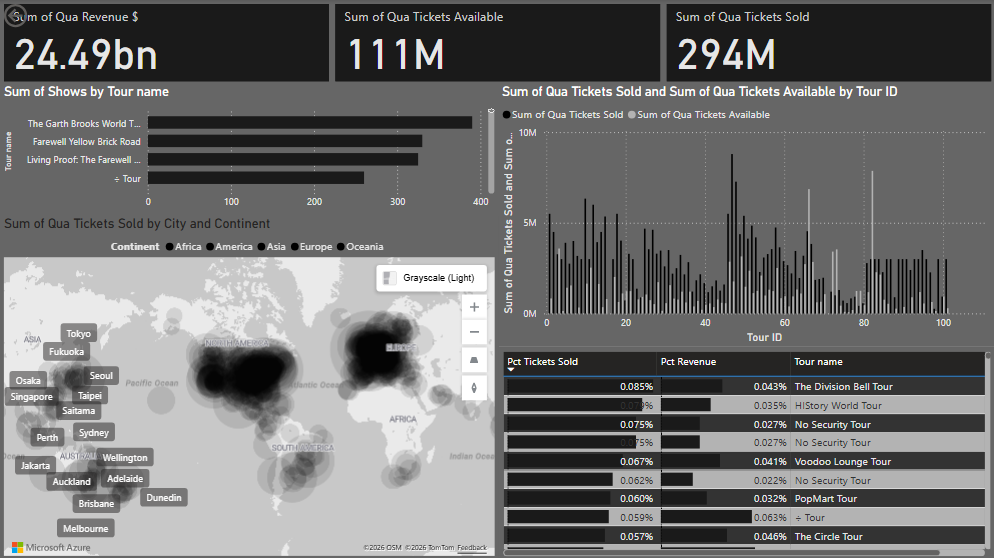

The dashboard page shown, as its layout file describes it:
{"tool":"powerbi","page":{"name":"Page 1","canvas":[1280,720],"ordinal":0},"visuals":[{"type":"cardVisual","fields":{"Data":["Sum(Show.Qua Revenue $)","Sum(Show.Qua Tickets Available)","Sum(Show.Qua Tickets Sold)"]},"box":[0,0,1280.2,110.9],"z":0},{"type":"actionButton","box":[0,0,100,40],"z":1000},{"type":"clusteredBarChart","fields":{"Category":["Tour.Tour name"],"Y":["Sum(Tour.Shows)"]},"box":[0,108,640.8,169.9],"z":2000},{"type":"clusteredColumnChart","fields":{"Category":["Show.Tour ID"],"Y":["Sum(Show.Qua Tickets Sold)","Sum(Show.Qua Tickets Available)"]},"box":[640.8,108,639.4,338.4],"z":3000},{"type":"tableEx","fields":{"Values":["Show.Pct Tickets Sold","Show.Pct Revenue","Tour.Tour name","Show.Show ID"]},"box":[640.8,446.2,639.2,273.4],"z":4000},{"type":"azureMap","fields":{"Category":["City.City"],"Series":["Continent.Continent"],"Size":["Sum(Show.Qua Tickets Sold)"]},"box":[0,277.9,640.8,442.1],"z":5000}]}

Visuals, with their boxes in screenshot pixels (x1, y1, x2, y2), scaled from the page's 1280x720 canvas onto the 994x558 screenshot:
cardVisual - Sum(Show.Qua Revenue $) x Sum(Show.Qua Tickets Available): box=[0, 0, 993, 86]
actionButton: box=[0, 0, 78, 31]
clusteredBarChart - Tour.Tour name x Sum(Tour.Shows): box=[0, 84, 498, 215]
clusteredColumnChart - Show.Tour ID x Sum(Show.Qua Tickets Sold): box=[498, 84, 993, 346]
tableEx - Show.Pct Tickets Sold x Show.Pct Revenue: box=[498, 346, 993, 557]
azureMap - City.City x Continent.Continent: box=[0, 215, 498, 557]
